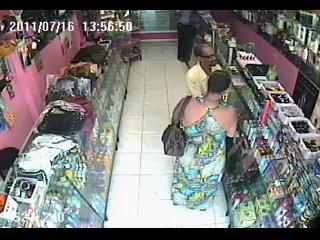Normal: (168, 70, 240, 212), (161, 95, 192, 157), (186, 43, 221, 97), (176, 10, 199, 68), (120, 46, 142, 66)
